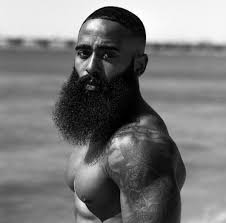black_male: (64, 1, 146, 103)
